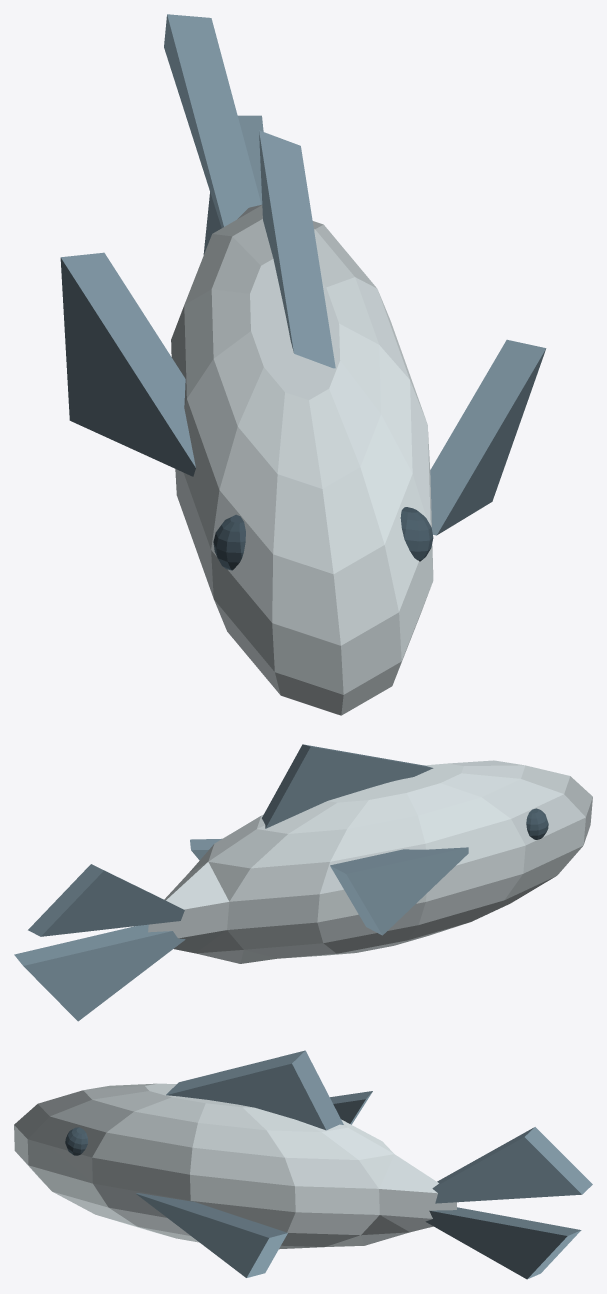
Rendered from group1739777442_lev3.glb.
The picture shows the model from 3 angles, top to bottom: view 1: azimuth 30°, elevation 25°; view 2: azimuth 150°, elevation 25°; view 3: azimuth 270°, elevation 25°; orthographic projection. The views are drawn at different scales.
Parts seen in each view (by area): view 1: group1739777442_lev3; view 2: group1739777442_lev3; view 3: group1739777442_lev3.
Boxes of the visible parts, x1,y1,x2,y2 form: group1739777442_lev3: (60, 14, 546, 715); group1739777442_lev3: (14, 744, 592, 1021); group1739777442_lev3: (14, 1050, 592, 1279).
Bounding box in the file's own units: 0.41 × 0.3113 × 0.8177.
